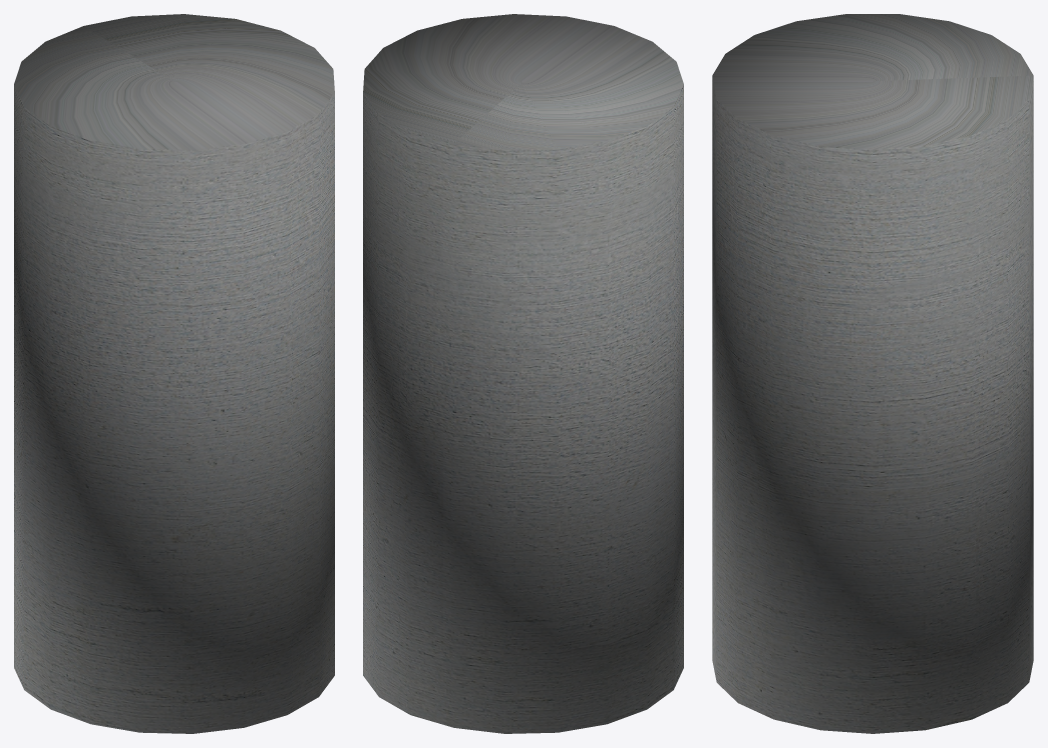
File: jfuflkjlkj.obj
3 renders of one model, left to right at view 1: azimuth 30°, elevation 25°; view 2: azimuth 150°, elevation 25°; view 3: azimuth 270°, elevation 25°, orthographic.
Parts seen in each view (by area): view 1: Cylinder001; view 2: Cylinder001; view 3: Cylinder001.
Part boxes in pixels (box(x1,y1,x2,y2)): Cylinder001: box(14, 14, 334, 733); Cylinder001: box(363, 14, 683, 733); Cylinder001: box(712, 14, 1033, 733).
Size of the model in its own units: 391 by 787 by 392.
1 material, 1 textured.
